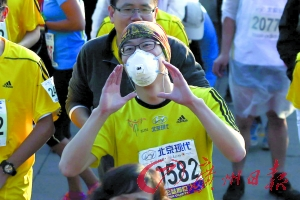face: (114, 1, 155, 37)
face_mask: (122, 36, 161, 86)
